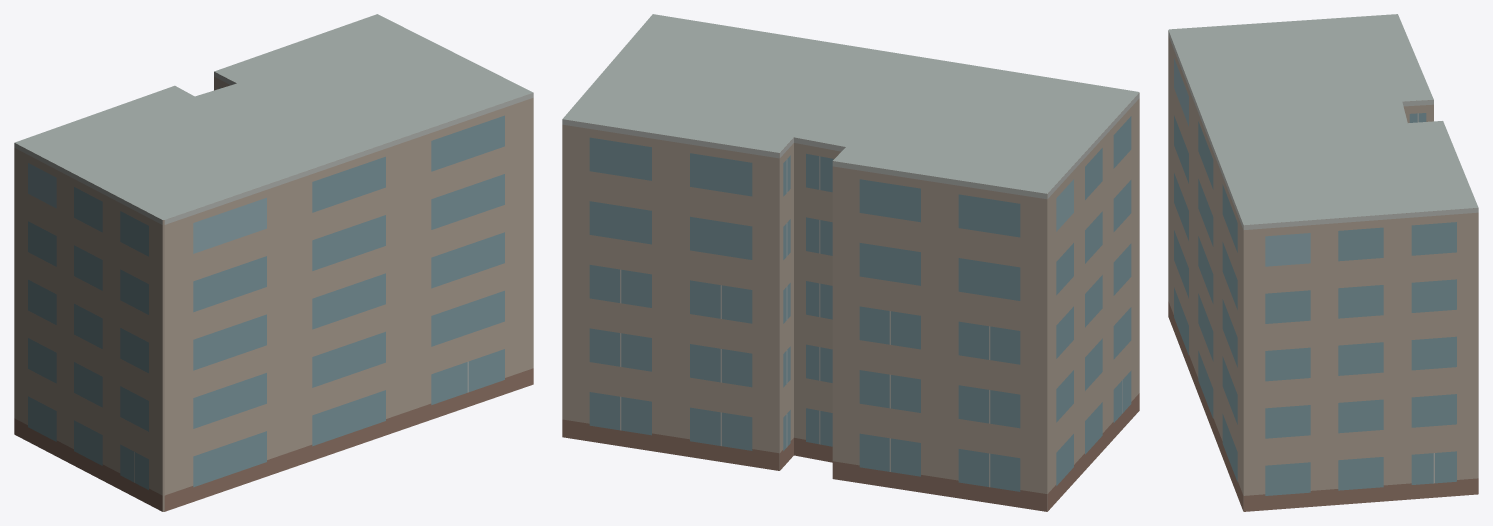
The model's file is survey-upis-32775457.glb.
3 views of the same model, side by side, from view 1: azimuth 30°, elevation 25°; view 2: azimuth 150°, elevation 25°; view 3: azimuth 270°, elevation 25° (orthographic). The views are drawn at different scales.
Parts seen in each view (by area): view 1: survey-upis-32775457.tmp; view 2: survey-upis-32775457.tmp; view 3: survey-upis-32775457.tmp.
Boxes of the visible parts, <box> form: survey-upis-32775457.tmp: <box>14,14,533,511</box>; survey-upis-32775457.tmp: <box>562,14,1139,511</box>; survey-upis-32775457.tmp: <box>1168,14,1478,511</box>.
Bounding box in the file's own units: 22.45 × 14.2 × 13.94.
